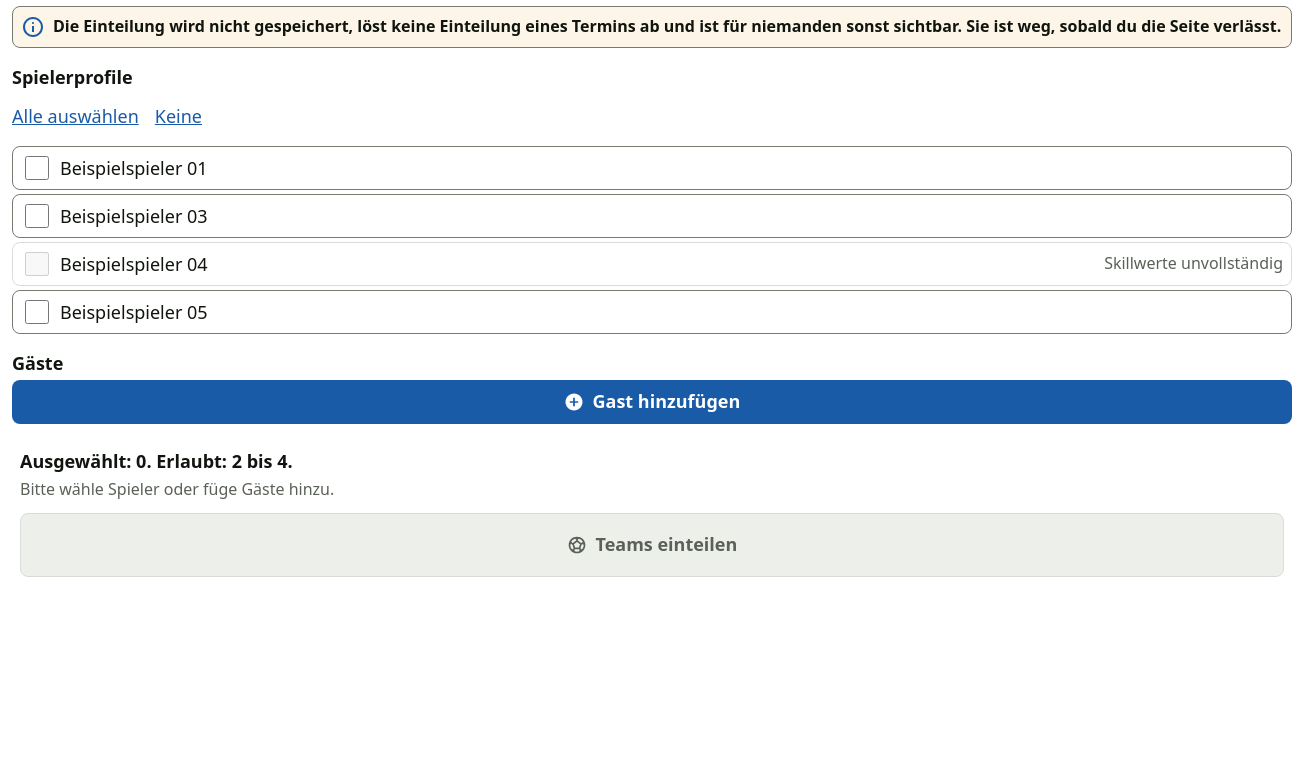
Scenario: AdminTeams – Ergebnis › Verfahren und Regel stehen so da, wie der Server sie meldet; Abweichungen von der Konfiguration werden erklärt
Expected: the text with test id "admin-teams-zaehler" shows "Erlaubt:", 152,449 -> 293,473
Click the checkbox with test id "admin-teams-profil-1". click: (37, 168)
box: 25,156 -> 49,180
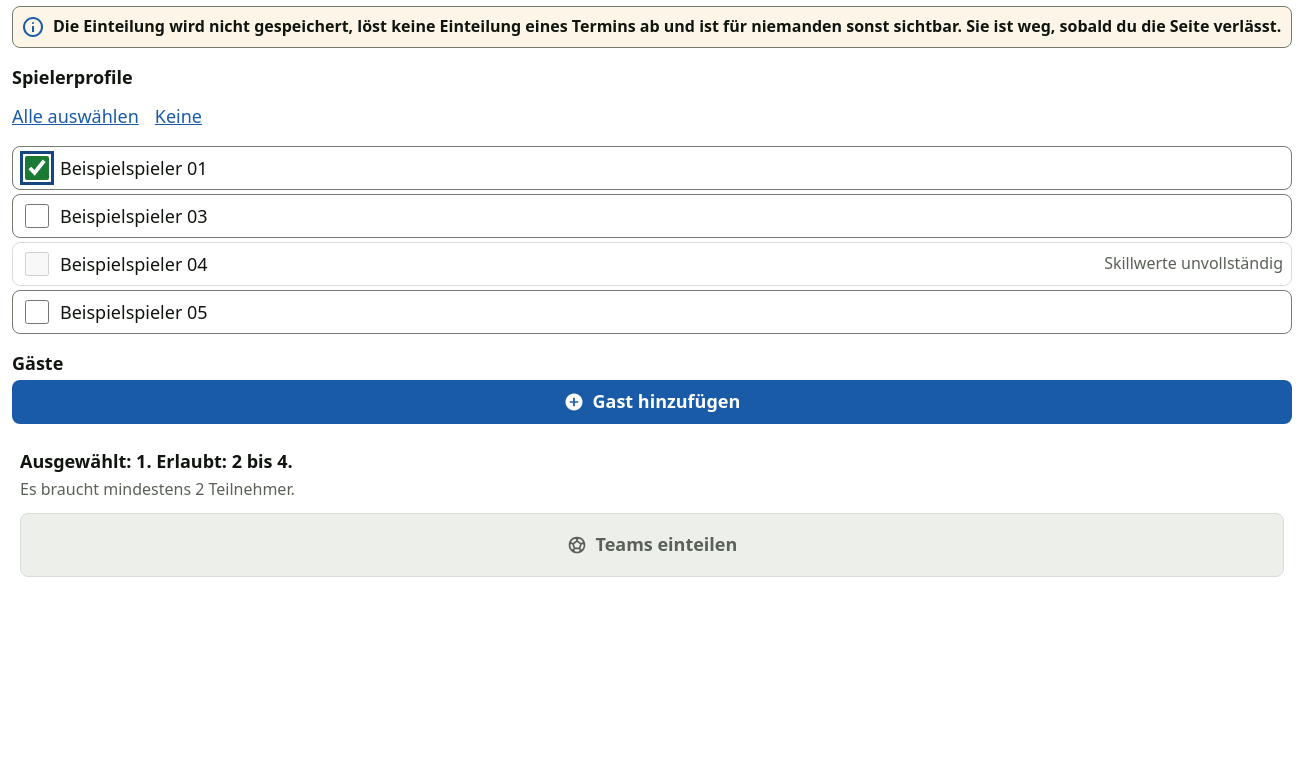
Click the checkbox with test id "admin-teams-profil-3". click: (37, 216)
box: 25,204 -> 49,228
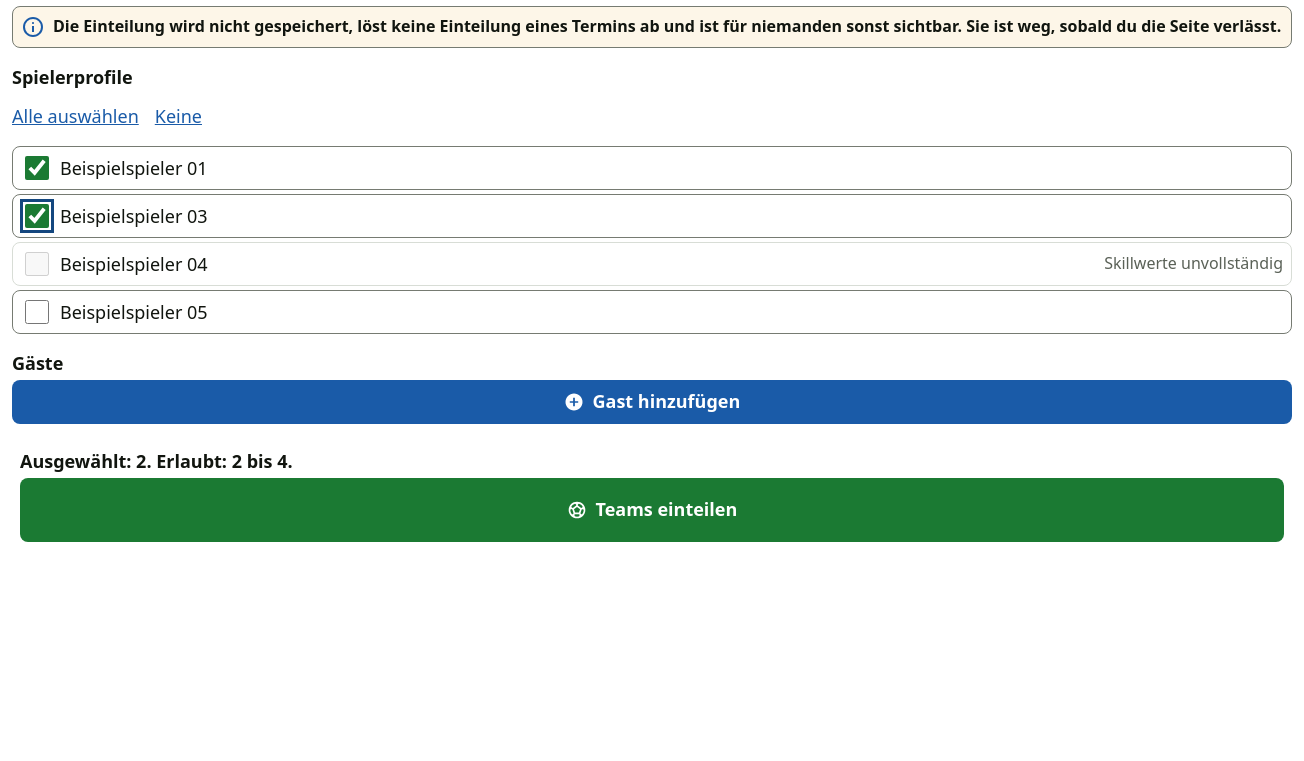
Click the button with test id "admin-teams-berechnen". click: (652, 510)
box: 20,478 -> 1284,542
(page scrolled)
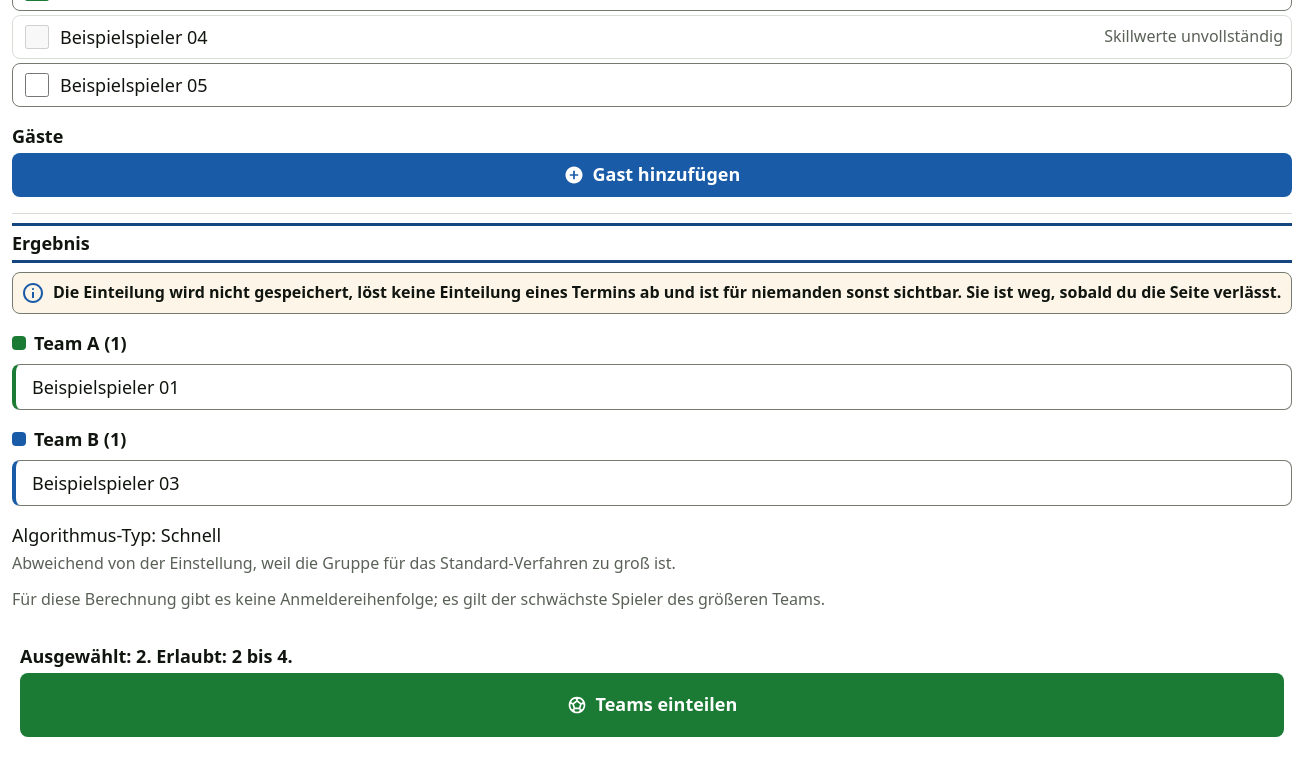
Result: the text with test id "admin-teams-verfahren" reads "Algorithmus-Typ: Schnell" at 12,523 -> 221,547
Result: the text with test id "admin-teams-verfahren-abweichung" shows "Abweichend von der Einstellung" at 12,552 -> 676,574
Result: the text with test id "admin-teams-regel-abweichung" shows "keine Anmeldereihenfolge" at 12,588 -> 825,610
